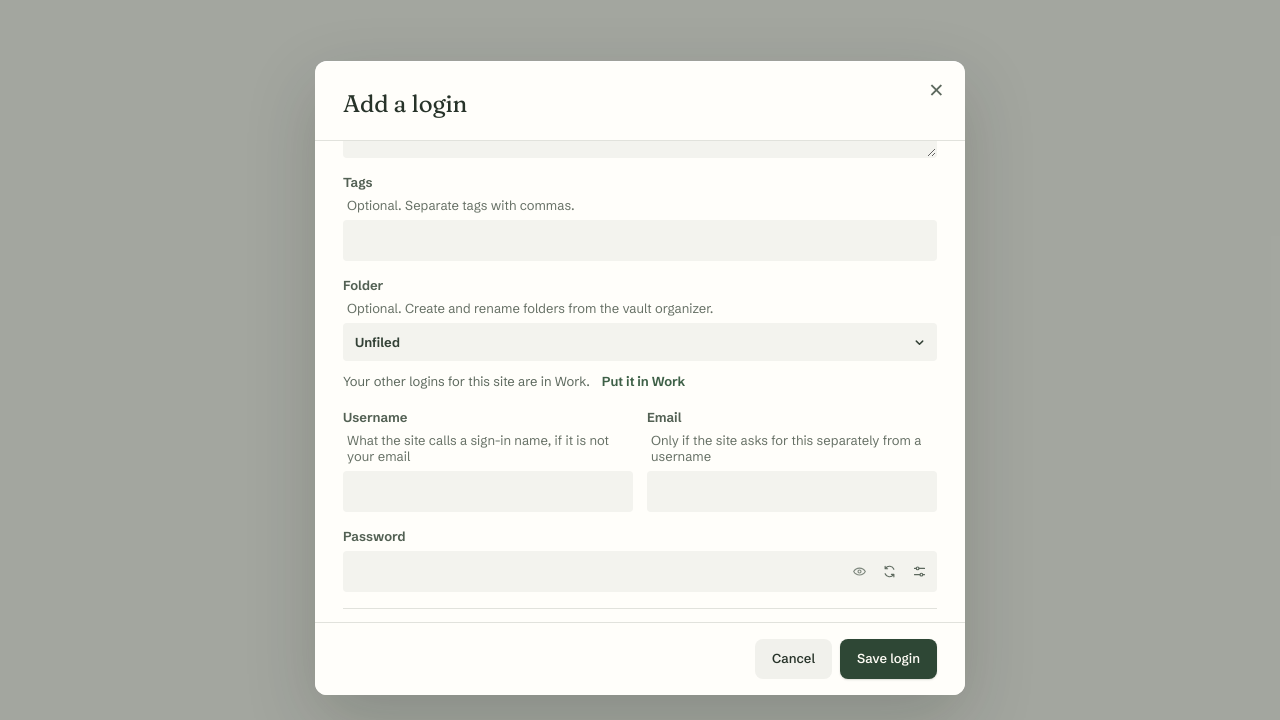
Test: choosing the suggested folder counts as an edit, so closing asks before discarding it
The width and height of the screenshot is (1280, 720).
(page scrolled)
Click the button "Put it in Work" at point(644, 381), box [598,369,689,393]
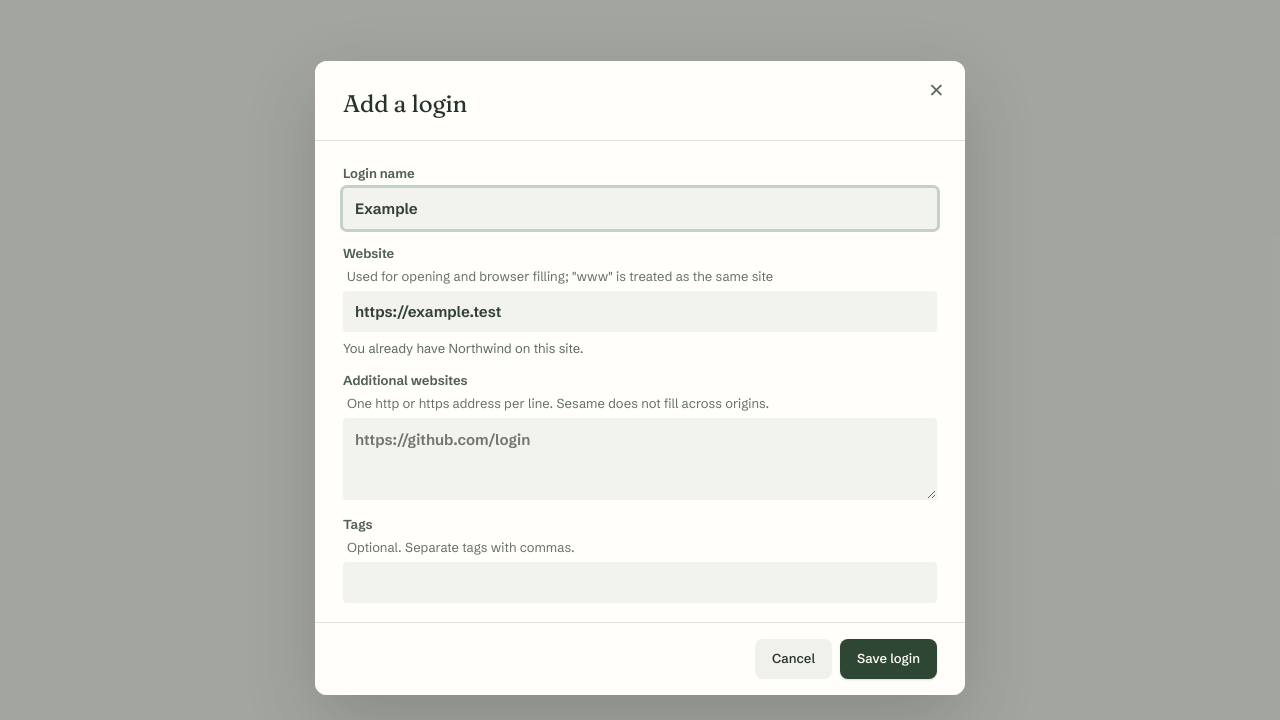
Click the button "Cancel" at point(794, 659), box [755,639,832,679]
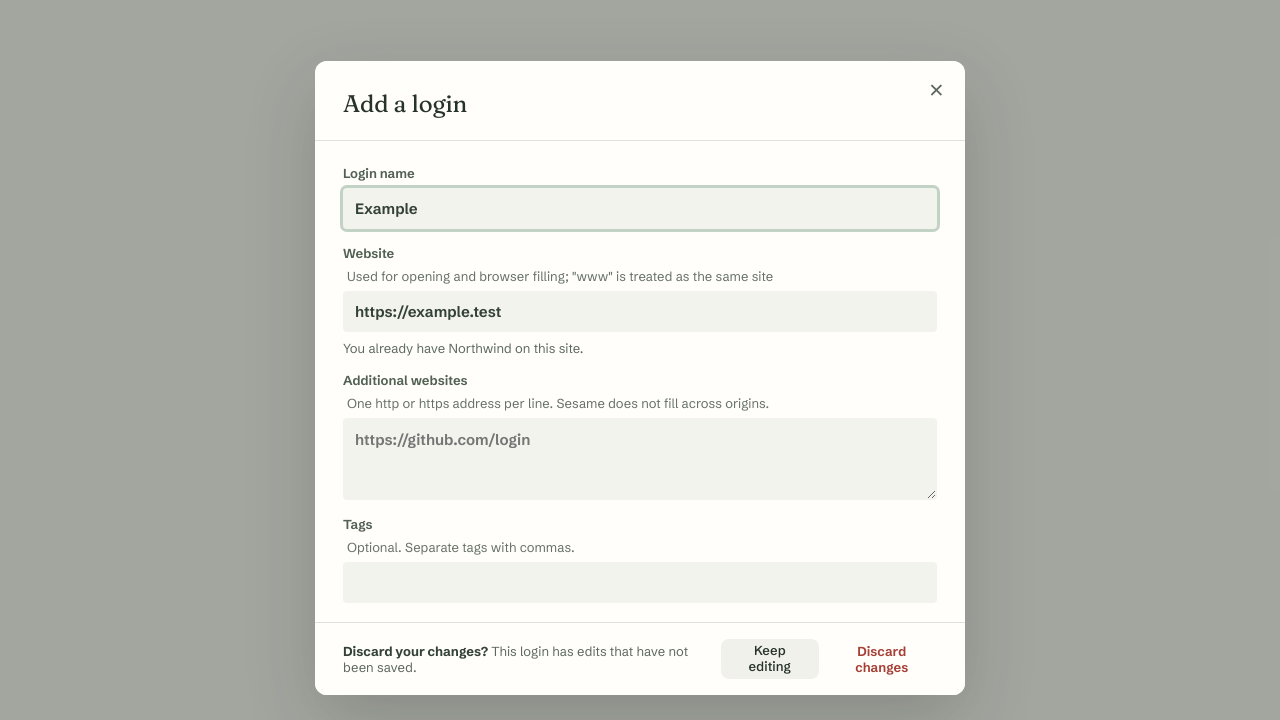
Expected: the text "Discard your changes?" is shown, [343,643,488,659]
